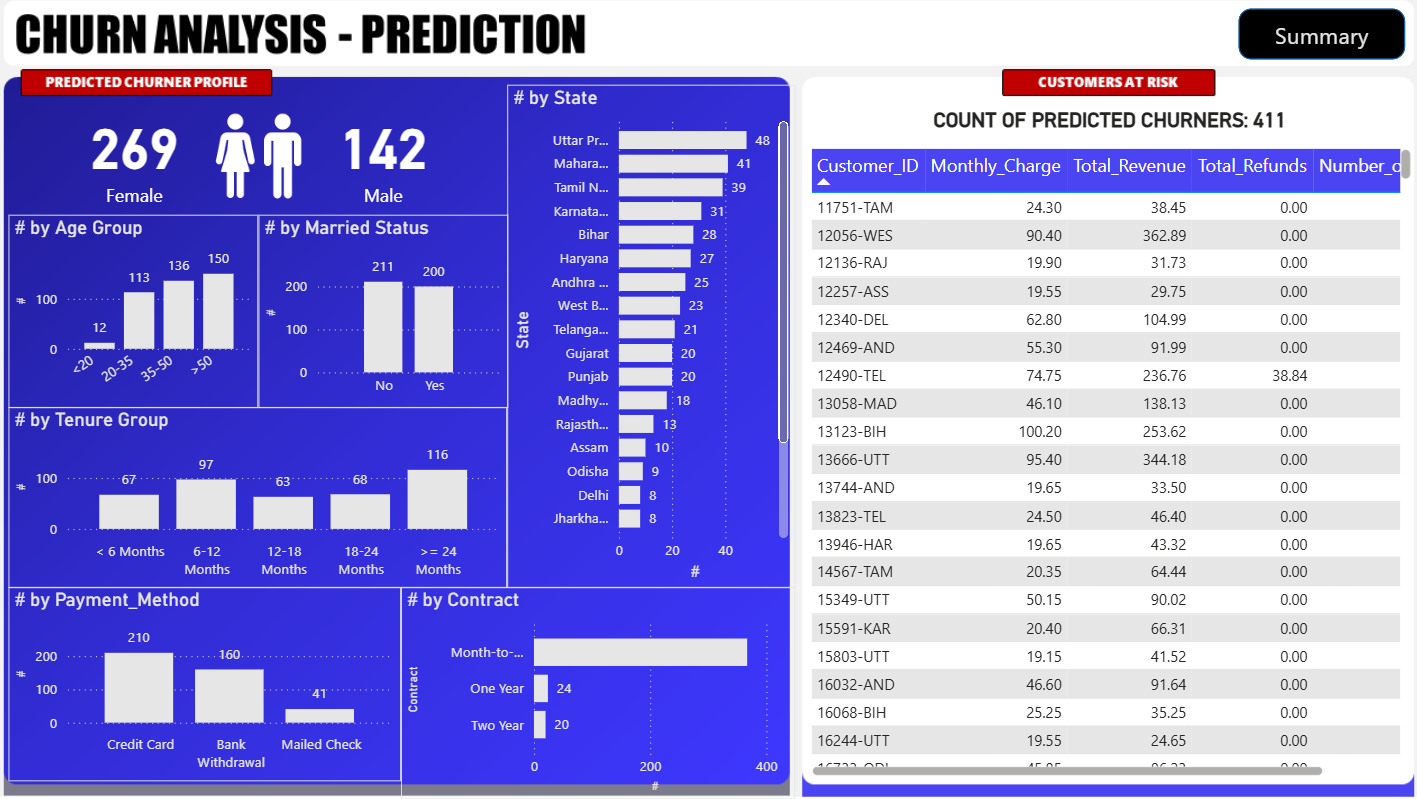

The page's visual inventory and layout, read from the dashboard file:
{"tool":"powerbi","page":{"name":"Churn Prediction","canvas":[1280,720],"ordinal":2},"visuals":[{"type":"tableEx","fields":{"Values":["Predictions.Customer_ID","Predictions.Monthly_Charge","Predictions.Total_Revenue","Predictions.Total_Refunds","Predictions.Number_of_Referrals"]},"box":[725.2,136.2,544.8,568.1],"z":0},{"type":"card","fields":{"Values":["tbl_Measures.Title Predicted Churner"]},"box":[749.7,93.3,494.5,42.9],"z":1000},{"type":"card","fields":{"Values":["tbl_Measures.Count Predicted Churner"]},"box":[57.7,93.3,139.9,105.5],"z":2000},{"type":"card","fields":{"Values":["tbl_Measures.Count Predicted Churner"]},"box":[278.5,93.3,142.3,105.5],"z":3000},{"type":"clusteredColumnChart","fields":{"Category":["Mapping_AgeGrp.Age Group"],"Y":["CountNonNull(Predictions.Customer_ID)"]},"box":[16,198.8,222.1,171.8],"z":4000},{"type":"clusteredColumnChart","fields":{"Y":["CountNonNull(Predictions.Customer_ID)"],"Category":["Predictions.Married"]},"box":[238,198.8,222.1,171.8],"z":5000},{"type":"clusteredColumnChart","fields":{"Y":["CountNonNull(Predictions.Customer_ID)"],"Category":["Mapping_TenureGrp.Tenure Group"]},"box":[16,370.6,444.2,160.7],"z":6000},{"type":"clusteredColumnChart","fields":{"Y":["CountNonNull(Predictions.Customer_ID)"],"Category":["Predictions.Payment_Method"]},"box":[16,531.3,349.7,173],"z":7000},{"type":"clusteredBarChart","fields":{"Category":["prod_Churn.Contract"],"Y":["CountNonNull(Predictions.Customer_ID)"]},"box":[365.6,531.3,350.9,189],"z":8000},{"type":"clusteredBarChart","fields":{"Category":["prod_Churn.State"],"Y":["CountNonNull(Predictions.Customer_ID)"]},"box":[460.1,83.4,256.4,447.9],"z":9000},{"type":"image","box":[176.7,93.3,122.7,105.5],"z":9001},{"type":"shape","box":[1110.4,16,148.5,45.4],"z":9002}]}

Visuals, with their boxes in screenshot pixels (x1, y1, x2, y2), scaled from the page's 1280x720 canvas onto the 1417x799 screenshot:
tableEx - Predictions.Customer_ID x Predictions.Monthly_Charge: bbox(803, 151, 1406, 782)
card - tbl_Measures.Title Predicted Churner: bbox(830, 104, 1377, 151)
card - tbl_Measures.Count Predicted Churner: bbox(64, 104, 219, 221)
card - tbl_Measures.Count Predicted Churner: bbox(308, 104, 466, 221)
clusteredColumnChart - Mapping_AgeGrp.Age Group x CountNonNull(Predictions.Customer_ID): bbox(18, 221, 264, 411)
clusteredColumnChart - CountNonNull(Predictions.Customer_ID) x Predictions.Married: bbox(263, 221, 509, 411)
clusteredColumnChart - CountNonNull(Predictions.Customer_ID) x Mapping_TenureGrp.Tenure Group: bbox(18, 411, 509, 590)
clusteredColumnChart - CountNonNull(Predictions.Customer_ID) x Predictions.Payment_Method: bbox(18, 590, 405, 782)
clusteredBarChart - prod_Churn.Contract x CountNonNull(Predictions.Customer_ID): bbox(405, 590, 793, 798)
clusteredBarChart - prod_Churn.State x CountNonNull(Predictions.Customer_ID): bbox(509, 93, 793, 590)
image: bbox(196, 104, 331, 221)
shape: bbox(1229, 18, 1394, 68)
